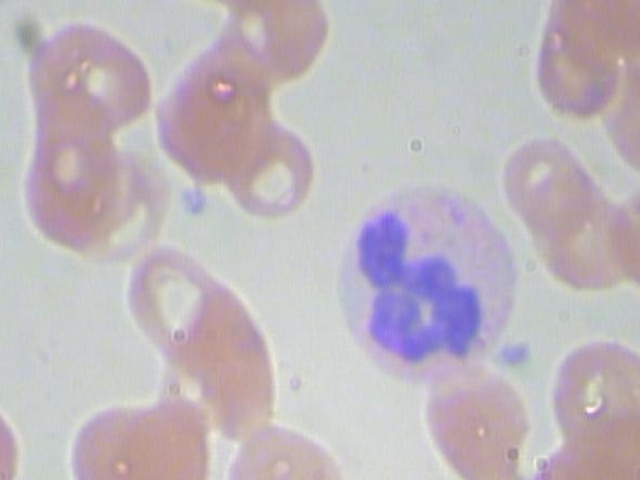Platelets: (491, 336, 536, 375), (170, 180, 214, 219)
RBC: (10, 12, 163, 139), (10, 113, 130, 259), (116, 240, 232, 362), (500, 137, 625, 249), (519, 177, 640, 290), (55, 390, 201, 480), (214, 111, 329, 224), (159, 38, 273, 151), (214, 0, 344, 94), (533, 0, 627, 119), (218, 408, 347, 480), (0, 372, 36, 480)
WBC: (335, 174, 526, 389)
